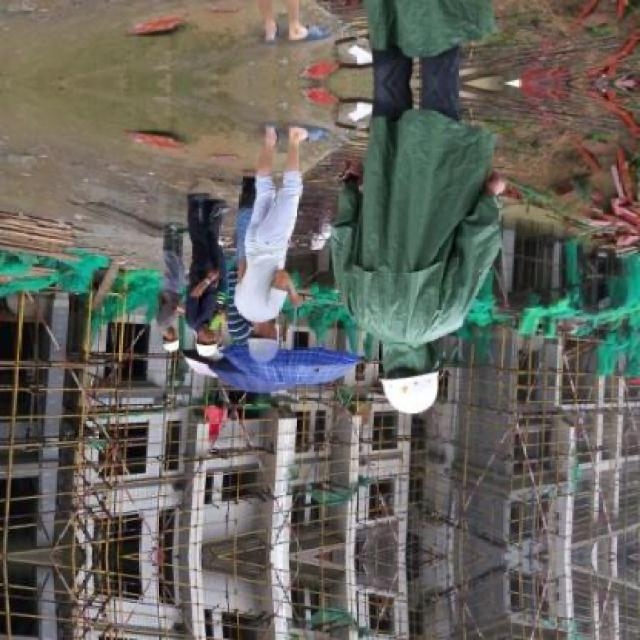con casco: (305, 298, 464, 433), (245, 297, 303, 379), (178, 312, 232, 369), (151, 318, 197, 366)
